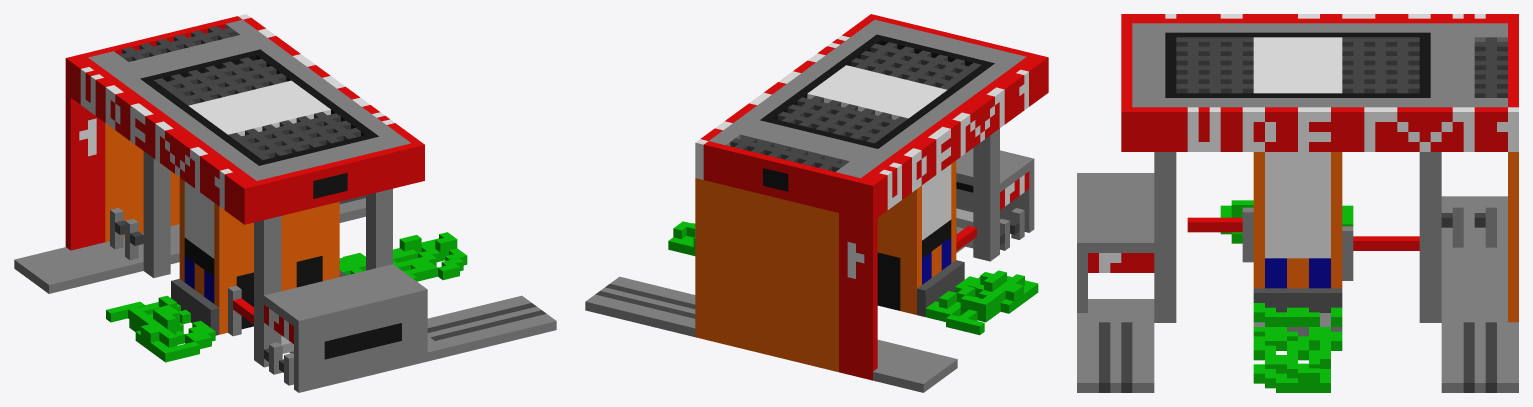
File: Porteria1_texture_embed.fbx
3 renders of one model, left to right at view 1: azimuth 30°, elevation 25°; view 2: azimuth 150°, elevation 25°; view 3: azimuth 270°, elevation 25°, orthographic. The views are drawn at different scales.
Parts seen in each view (by area): view 1: Porteria 1; view 2: Porteria 1; view 3: Porteria 1.
Part boxes in pixels (x1,y1,x2,y2): Porteria 1: (14,14,556,392); Porteria 1: (585,14,1048,392); Porteria 1: (1077,14,1518,392).
Bounding box in the file's own units: 400 × 220 × 400.
1 material, 1 textured.
